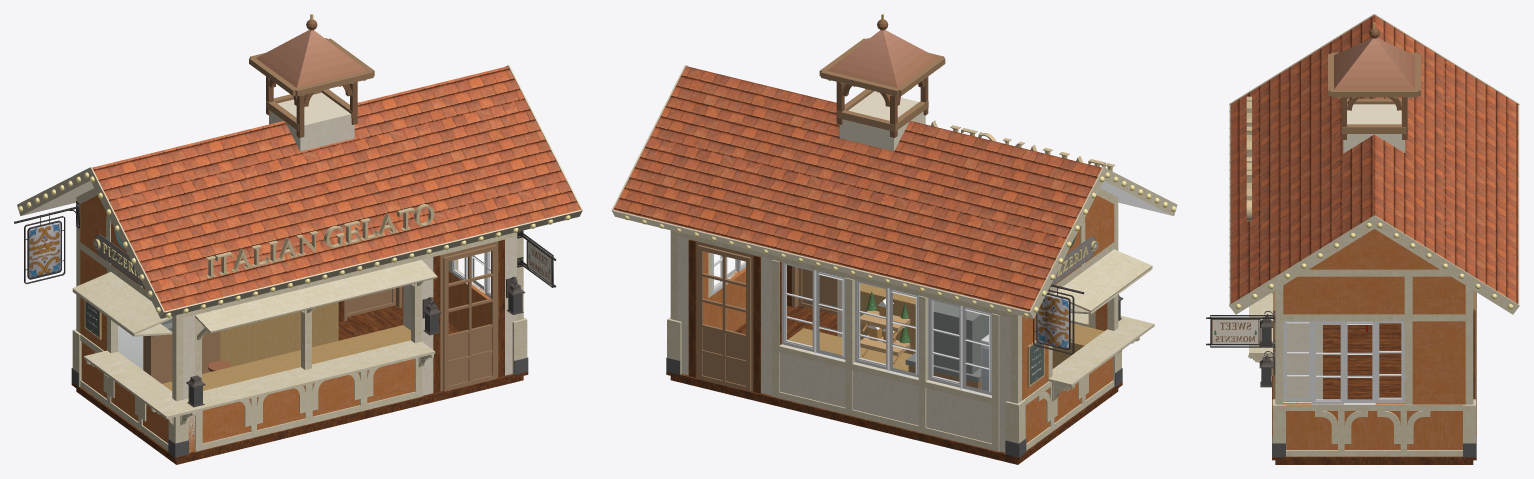
The picture shows the model from 3 angles, left to right: view 1: azimuth 30°, elevation 25°; view 2: azimuth 150°, elevation 25°; view 3: azimuth 270°, elevation 25°; orthographic projection.
Visible parts, largest first — view 1: Geom3D (×22), Geom3D_ (×10), Geom3D_Component#24 (×4), Geom3D_ITALIAN GELATO, Geom3D_Component#35, Geom3D_Component#29, Geom3D_Thanh dinh#5, Geom3D_Component#22, Geom3D_Thanh dinh#4, Geom3D_Bo goc#1; view 2: Geom3D (×22), Geom3D_ (×9), Geom3D_Component#36 (×4), Geom3D_Component#27 (×3), Geom3D_Component#25 (×3), Geom3D_Thanh dinh#5 (×2), Geom3D_Component#1 (×2), Geom3D_Component#35, Geom3D_Component#22 (×3), Geom3D_Component#32, Geom3D_Bo goc#1 (×2), Geom3D_Thanh dinh#4 (+1 smaller); view 3: Geom3D (×11), Geom3D_ (×11), Geom3D_Component#23 (×2), Geom3D_Thanh dinh#4 (×2), Geom3D_Component#22 (×2), Geom3D_Component#25 (×2), Geom3D_Component#27 (×2), Geom3D_Bo goc#1 (×2), Geom3D_Component#35 (×2), Geom3D_Component#21, Geom3D_ITALIAN GELATO, Geom3D_Component#28.
Part boxes in pixels (<box>): Geom3D (×22): <box>22,42,580,451</box>; Geom3D_ (×10): <box>17,167,528,464</box>; Geom3D_Component#24 (×4): <box>301,239,504,392</box>; Geom3D_ITALIAN GELATO: <box>205,204,434,278</box>; Geom3D_Component#35: <box>162,210,581,318</box>; Geom3D_Component#29: <box>183,233,516,317</box>; Geom3D_Thanh dinh#5: <box>202,391,415,449</box>; Geom3D_Component#22: <box>172,313,183,401</box>; Geom3D_Thanh dinh#4: <box>80,380,168,450</box>; Geom3D_Bo goc#1: <box>512,317,527,374</box>; Geom3D (×22): <box>613,42,1112,452</box>; Geom3D_ (×9): <box>666,167,1177,464</box>; Geom3D_Component#36 (×4): <box>688,239,999,451</box>; Geom3D_Component#27 (×3): <box>814,270,991,396</box>; Geom3D_Component#25 (×3): <box>781,262,960,387</box>; Geom3D_Thanh dinh#5 (×2): <box>779,345,991,449</box>; Geom3D_Component#1 (×2): <box>845,277,928,433</box>; Geom3D_Component#35: <box>613,210,1032,318</box>; Geom3D_Component#22 (×3): <box>670,195,1118,403</box>; Geom3D_Component#32: <box>677,232,1010,317</box>; Geom3D_Bo goc#1 (×2): <box>667,317,1025,443</box>; Geom3D_Thanh dinh#4: <box>1026,380,1113,450</box>; Geom3D (×11): <box>1212,15,1518,343</box>; Geom3D_ (×11): <box>1229,14,1519,464</box>; Geom3D_Component#23 (×2): <box>1283,269,1465,321</box>; Geom3D_Thanh dinh#4 (×2): <box>1286,404,1462,456</box>; Geom3D_Component#22 (×2): <box>1275,286,1473,404</box>; Geom3D_Component#25 (×2): <box>1312,321,1375,404</box>; Geom3D_Component#27 (×2): <box>1283,321,1404,402</box>; Geom3D_Bo goc#1 (×2): <box>1272,399,1475,443</box>; Geom3D_Component#35 (×2): <box>1229,104,1519,304</box>; Geom3D_Component#21: <box>1404,321,1412,404</box>; Geom3D_ITALIAN GELATO: <box>1246,96,1251,221</box>; Geom3D_Component#28: <box>1404,276,1412,314</box>.
Bounding box in the file's own units: 7.76 × 6.09 × 4.75.
69 materials, 16 textured.
